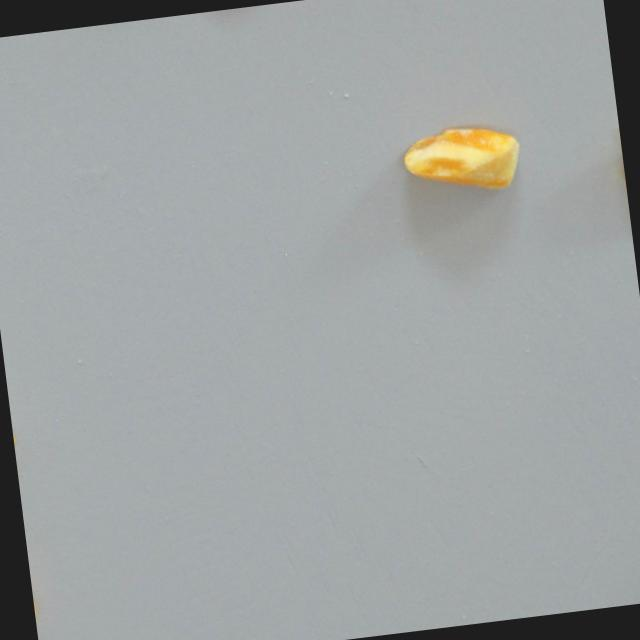pelicula: (398, 119, 525, 201)
